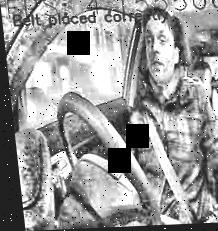seatbelt: (134, 90, 192, 225)
